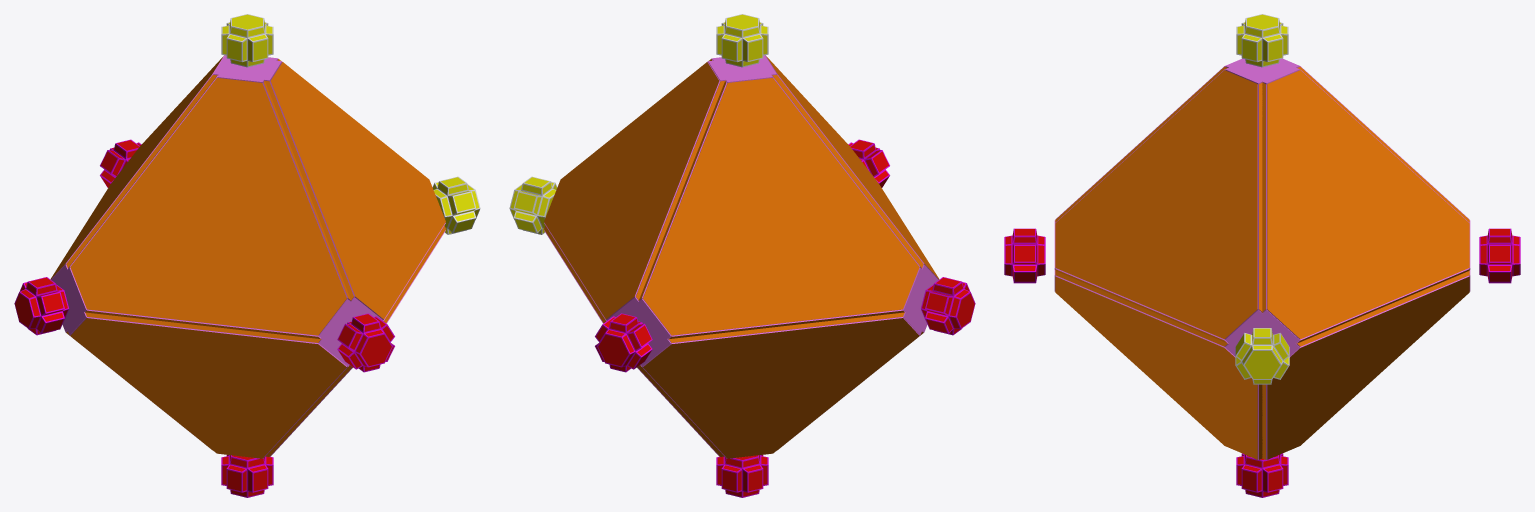
Rendered from Octahedron_HiRes_v01.FBX.
3 renders of one model, left to right at view 1: azimuth 30°, elevation 25°; view 2: azimuth 150°, elevation 25°; view 3: azimuth 270°, elevation 25°, orthographic.
Visible parts, largest first — view 1: GEARS; view 2: GEARS; view 3: GEARS.
Part boxes in pixels (x1,y1,x2,y2): GEARS: (14, 14, 480, 497); GEARS: (509, 14, 975, 497); GEARS: (1004, 14, 1520, 497).
Size of the model in its own units: 21.95 by 21.95 by 21.95.
